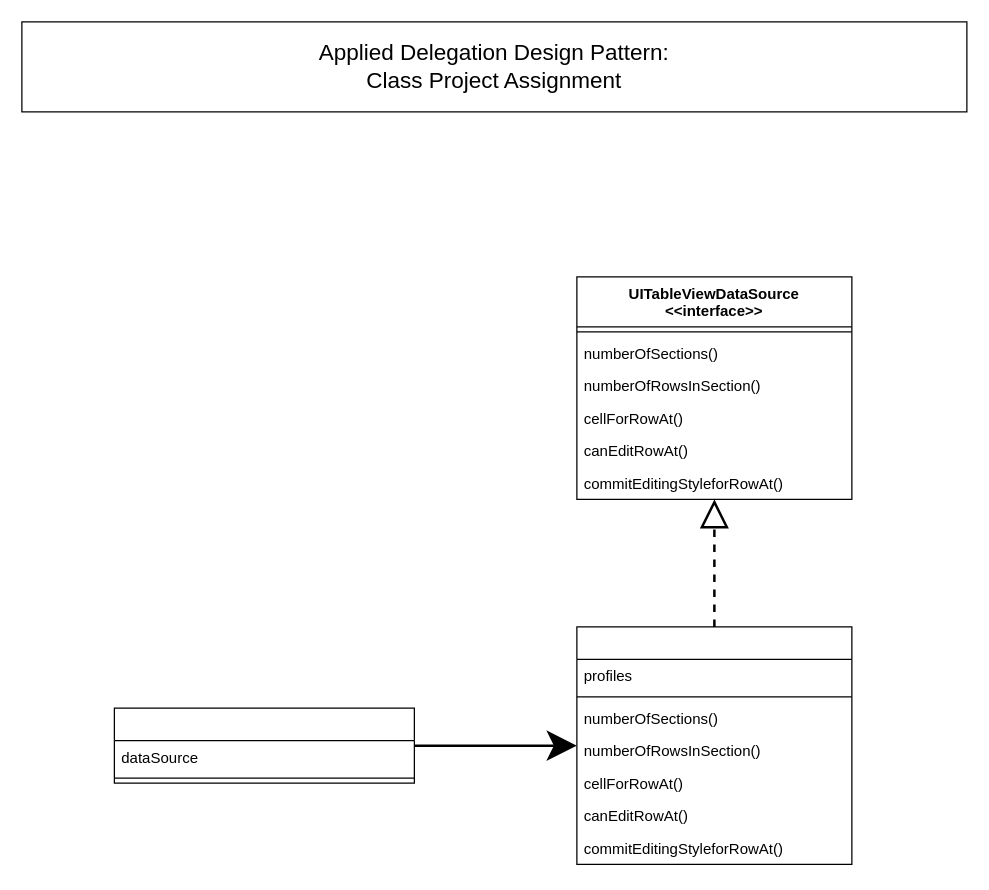
This 989x890 diagram has some shape labels left out. Here are the shapes that lost their labels. From the top down, the box of each, then its label:
(113, 707, 414, 783): ProfilesTableViewController
(576, 626, 852, 864): ProfileTableViewDataSource
